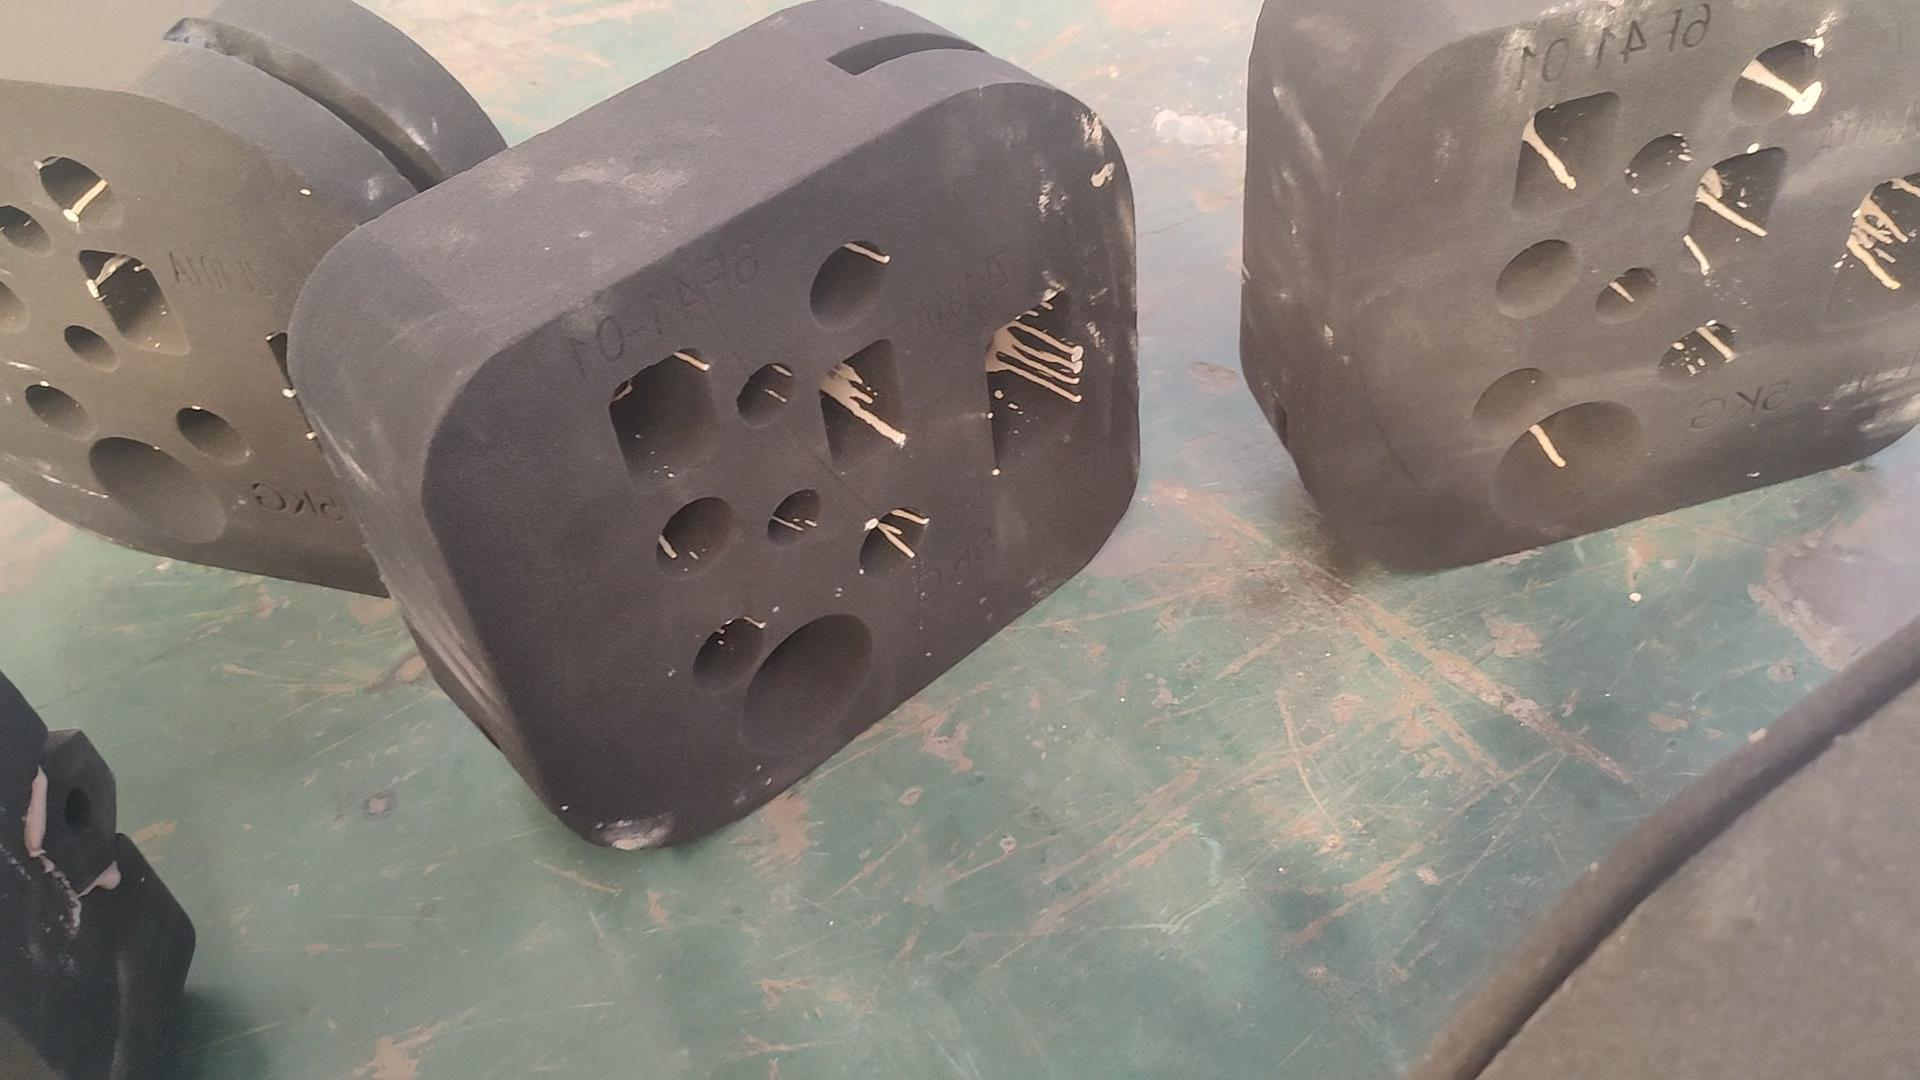pouring hole: (1493, 400, 1643, 525), (738, 613, 873, 753), (90, 436, 224, 545)
